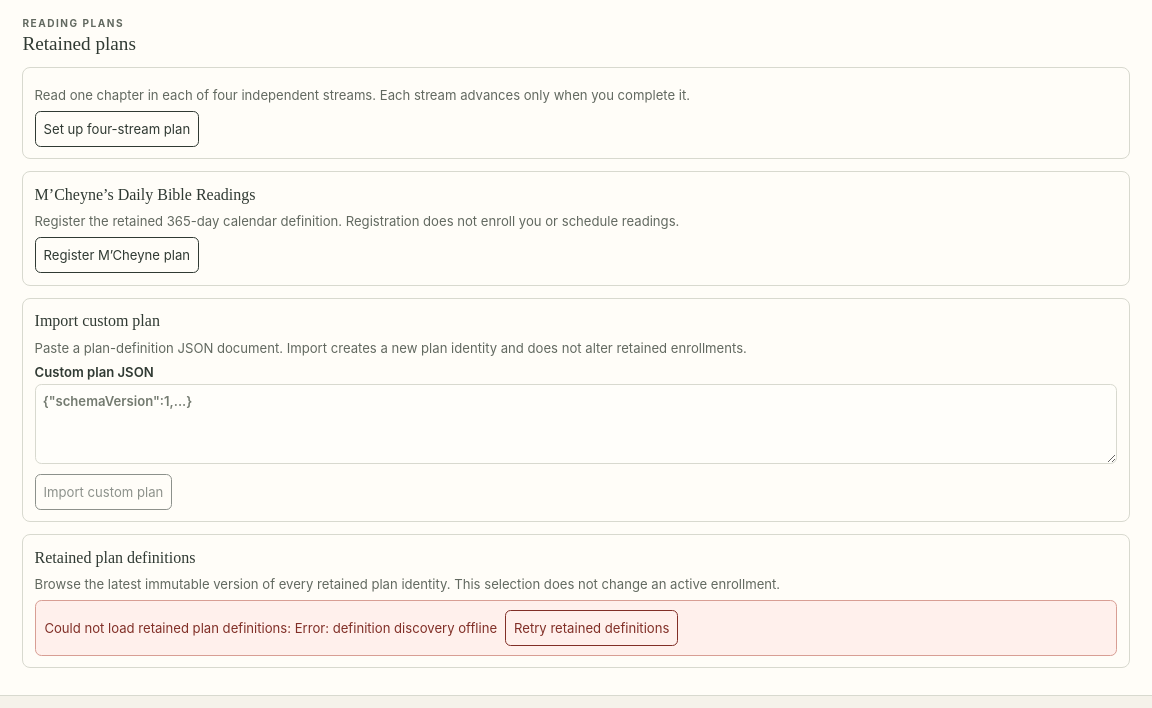
Test: retained plan panel › shows empty retained definitions and retries a failed read without writes
Expected: the text "Could not load retained plan definitions: Error: definition discovery offline" is shown, [35, 600, 1117, 656]
Click the button "Retry retained definitions". click: (592, 628)
box: [505, 610, 678, 646]
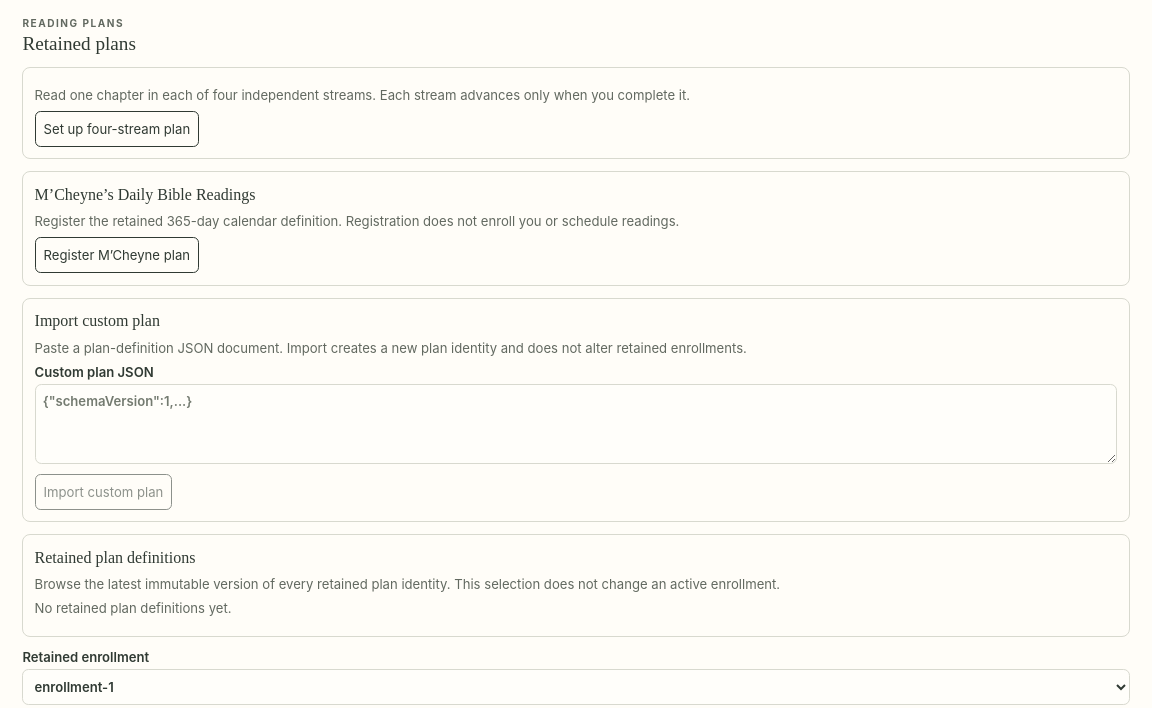
Expected: the text "No retained plan definitions yet." is shown, [35, 600, 232, 616]
